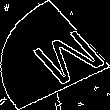M_SE: (9, 21, 101, 89)
